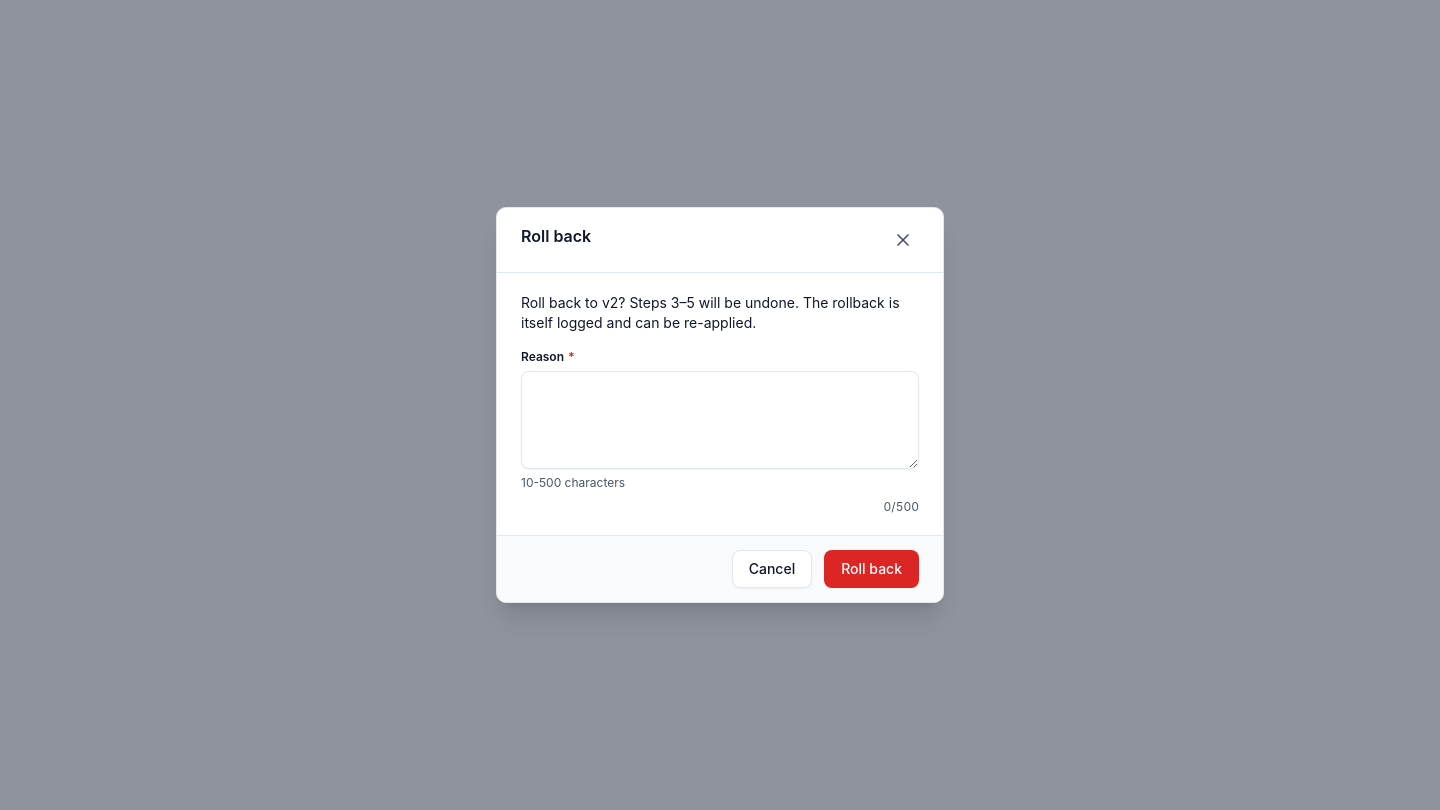
Test: RollbackModal reason validation › marks the textarea invalid while an error is shown
Click the button "Roll back".
click(872, 569)  # box [824,550,919,588]
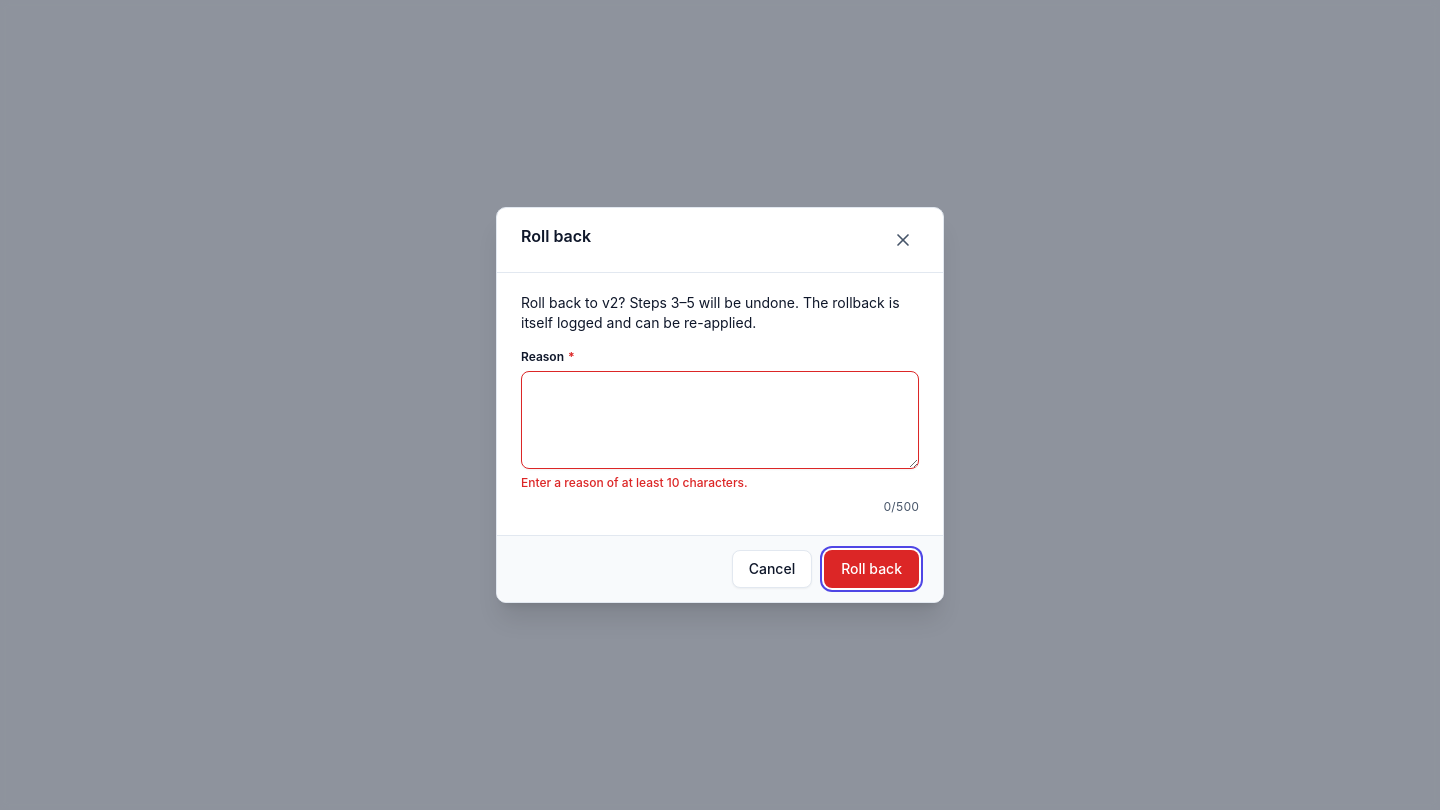
Now the message "Enter a reason of at least 10 characters." is shown, box [521,475,748,490]
